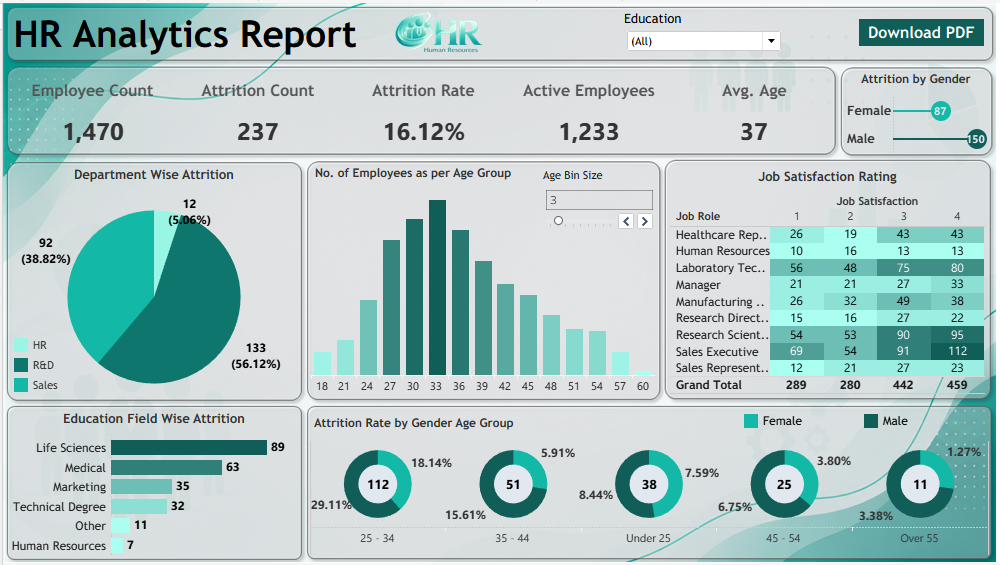

The page's visual inventory and layout, read from the dashboard file:
{"tool":"tableau","page":{"name":"HR Analytics Dashboard","canvas":[1000,560],"ordinal":0},"visuals":[{"type":"image","param":"Image/HR_Background.PNG","box":[0,0,995,559]},{"type":"text","box":[8,8,375,46]},{"type":"filter","title":"Attrition Rate by Gender Age Group","param":"[federated.1olzomb14tpv2f16gk6el0rhyqeh].[none:Education:nk]","box":[621,8,160,46]},{"type":"dashboard-object","box":[856,16,125,27]},{"type":"worksheet","title":"Gender Wise Attrition","mark":"Automatic","rows":["Gender"],"cols":["Calculation_0958523776061440","Calculation_0958523776061440"],"box":[838,65,150,85]},{"type":"worksheet","title":"KPI","mark":"Automatic","box":[7,67,827,81]},{"type":"worksheet","title":"No. of Employees as per Age Group","mark":"Automatic","rows":["Employee Count"],"cols":["Age (bin)"],"box":[308,159,344,233]},{"type":"worksheet","title":"Department Wise Attrition","mark":"Pie","box":[5,160,292,237]},{"type":"worksheet","title":"Job Satisfaction Rating","mark":"Square","rows":["Job Role"],"cols":["Job Satisfaction"],"box":[667,162,315,229]},{"type":"parameter","param":"[Parameters].[Parameter 0832630419566593]","box":[540,166,113,69]},{"type":"legend","title":"Department Wise Attrition","param":"[federated.1olzomb14tpv2f16gk6el0rhyqeh].[none:Department:nk]","box":[8,332,61,68]},{"type":"worksheet","title":"Education Field Wise Attrition","mark":"Automatic","rows":["Education Field"],"cols":["Calculation_0958523776061440"],"box":[8,404,286,148]},{"type":"legend","title":"Attrition Rate by Gender Age Group","param":"[federated.1olzomb14tpv2f16gk6el0rhyqeh].[none:Gender:nk]","box":[738,408,244,24]},{"type":"worksheet","title":"Attrition Rate by Gender Age Group","mark":"Pie","rows":["Calculation_0832630431096837","Calculation_0832630431096837"],"cols":["CF_age band"],"box":[307,409,679,144]}]}

Visuals, with their boxes in screenshot pixels (x1, y1, x2, y2), scaled from the page's 1000x560 canvas onto the 1000x565 screenshot:
image: bbox=(0, 0, 995, 564)
text: bbox=(8, 8, 383, 54)
"Attrition Rate by Gender Age Group" filter: bbox=(621, 8, 781, 54)
dashboard-object: bbox=(856, 16, 981, 43)
"Gender Wise Attrition" worksheet: bbox=(838, 66, 988, 151)
"KPI" worksheet: bbox=(7, 68, 834, 149)
"No. of Employees as per Age Group" worksheet: bbox=(308, 160, 652, 396)
"Department Wise Attrition" worksheet (Pie marks): bbox=(5, 161, 297, 401)
"Job Satisfaction Rating" worksheet (Square marks): bbox=(667, 163, 982, 394)
parameter: bbox=(540, 167, 653, 237)
"Department Wise Attrition" legend: bbox=(8, 335, 69, 404)
"Education Field Wise Attrition" worksheet: bbox=(8, 408, 294, 557)
"Attrition Rate by Gender Age Group" legend: bbox=(738, 412, 982, 436)
"Attrition Rate by Gender Age Group" worksheet (Pie marks): bbox=(307, 413, 986, 558)
